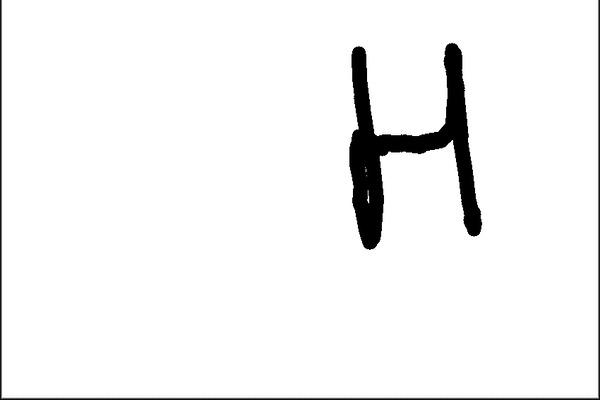H: (345, 36, 485, 250)
